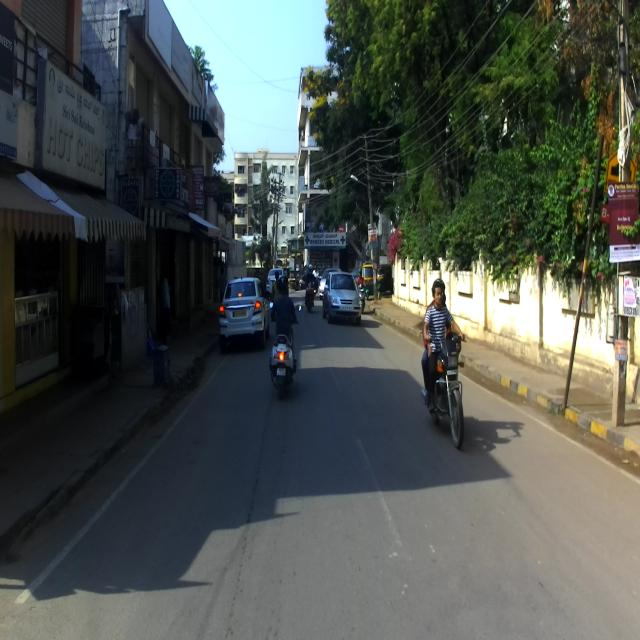car ahead at: (218, 267, 264, 344), (320, 264, 364, 324)
motorcycle ahead at: (421, 332, 477, 453), (268, 329, 303, 396)
